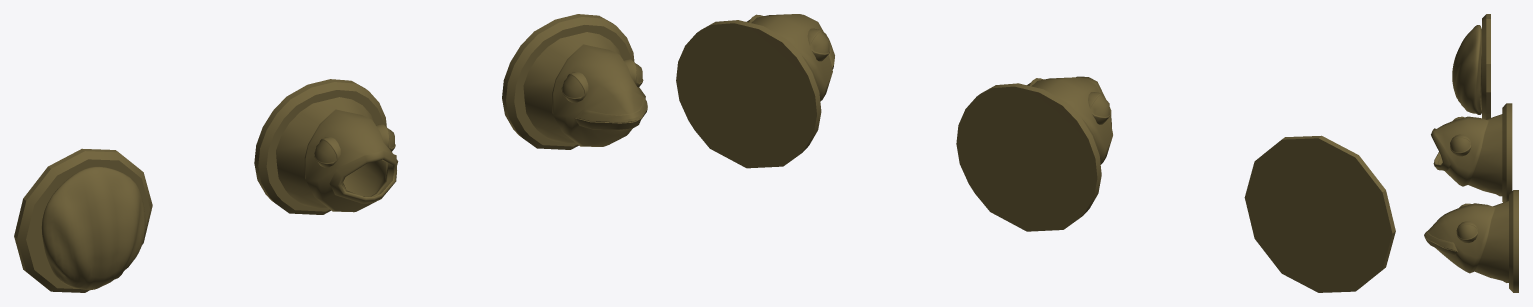
File: Figurehead_Meshes.fbx
The picture shows the model from 3 angles, left to right: view 1: azimuth 30°, elevation 25°; view 2: azimuth 150°, elevation 25°; view 3: azimuth 270°, elevation 25°; orthographic projection. The views are drawn at different scales.
Visible parts, largest first — view 1: polySurface1228, pCylinder86, polySurface1269; view 2: polySurface1228, pCylinder86, polySurface1269; view 3: polySurface1228, pCylinder86, polySurface1269.
Boxes of the visible parts, box(x1,y1,x2,y2) form: polySurface1228: box(502, 14, 647, 149); pCylinder86: box(254, 79, 398, 214); polySurface1269: box(14, 148, 152, 292); polySurface1228: box(676, 14, 834, 168); pCylinder86: box(956, 76, 1112, 231); polySurface1269: box(1244, 135, 1395, 292); polySurface1228: box(1424, 190, 1518, 292); pCylinder86: box(1431, 103, 1512, 202); polySurface1269: box(1452, 14, 1490, 119).
Bounding box in the file's own units: 84.16 × 17.91 × 15.4.
